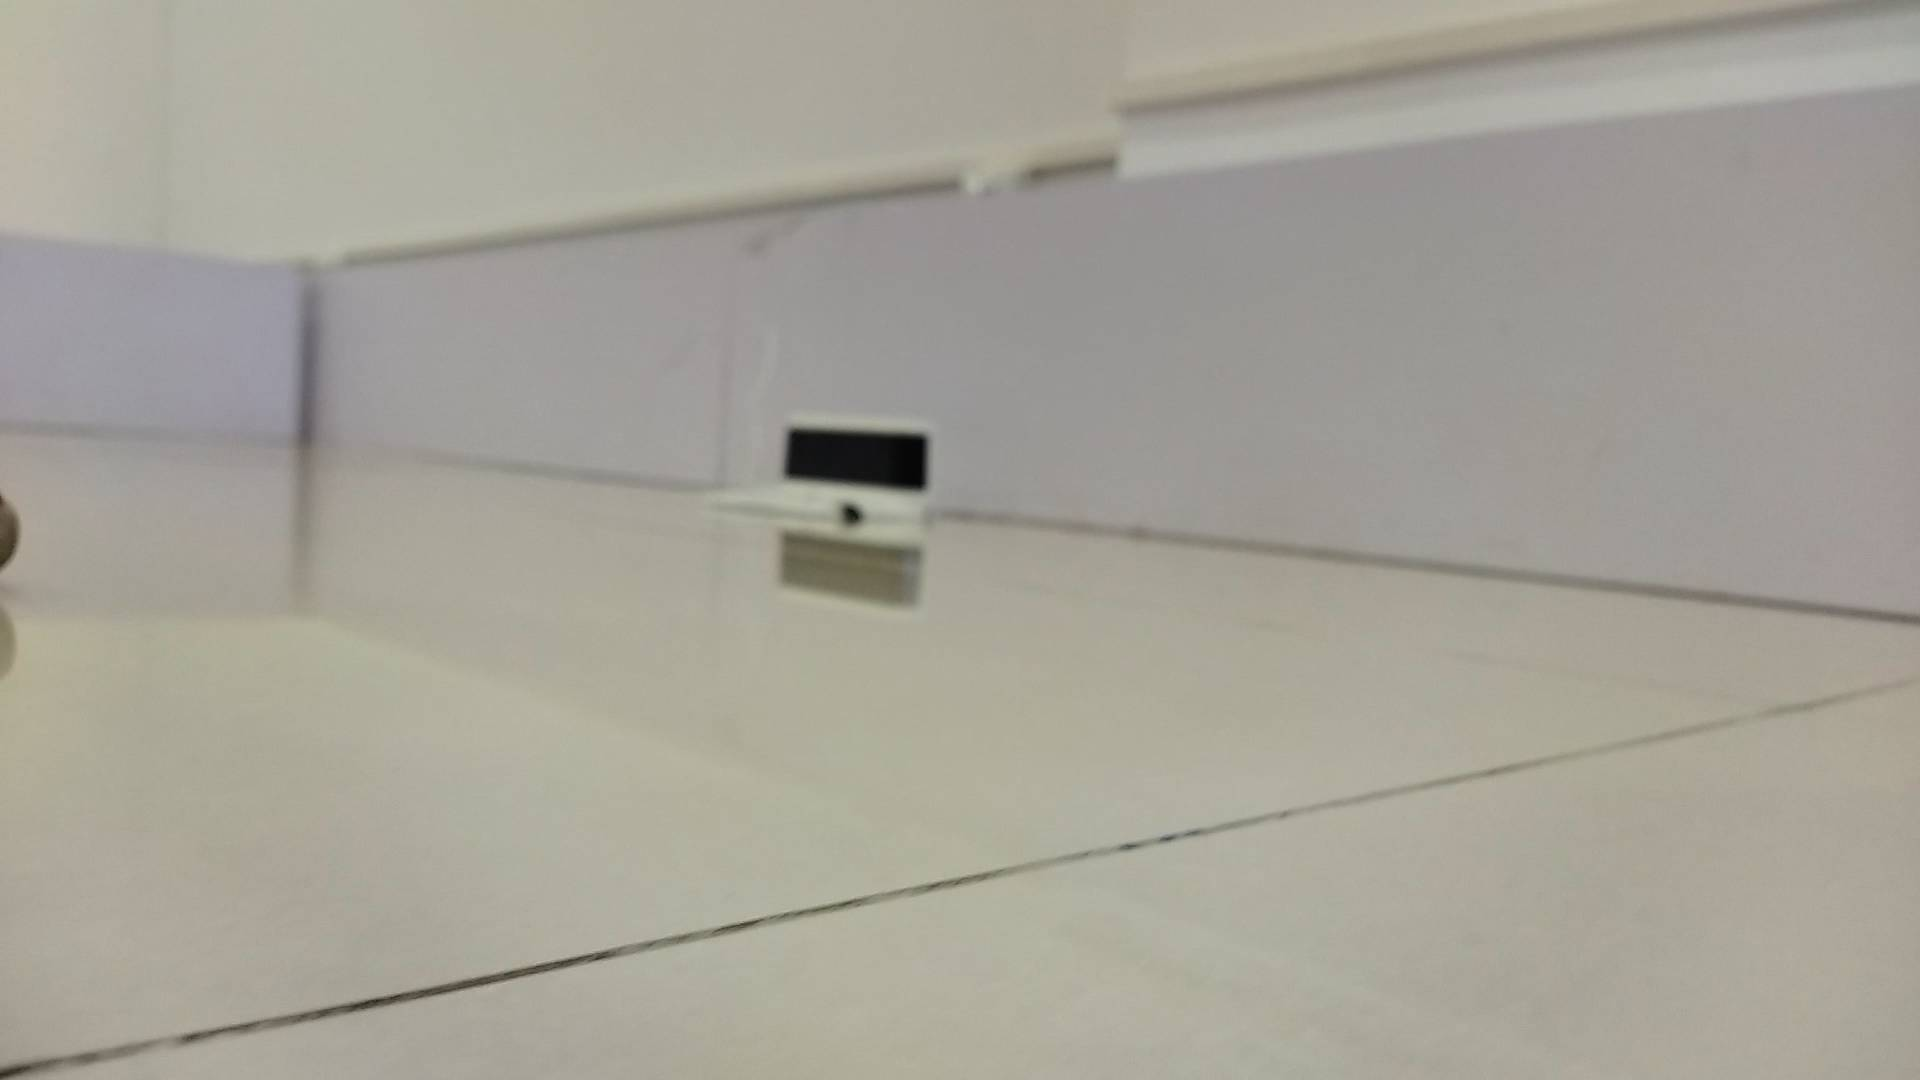recharge seat: (713, 415, 945, 531)
